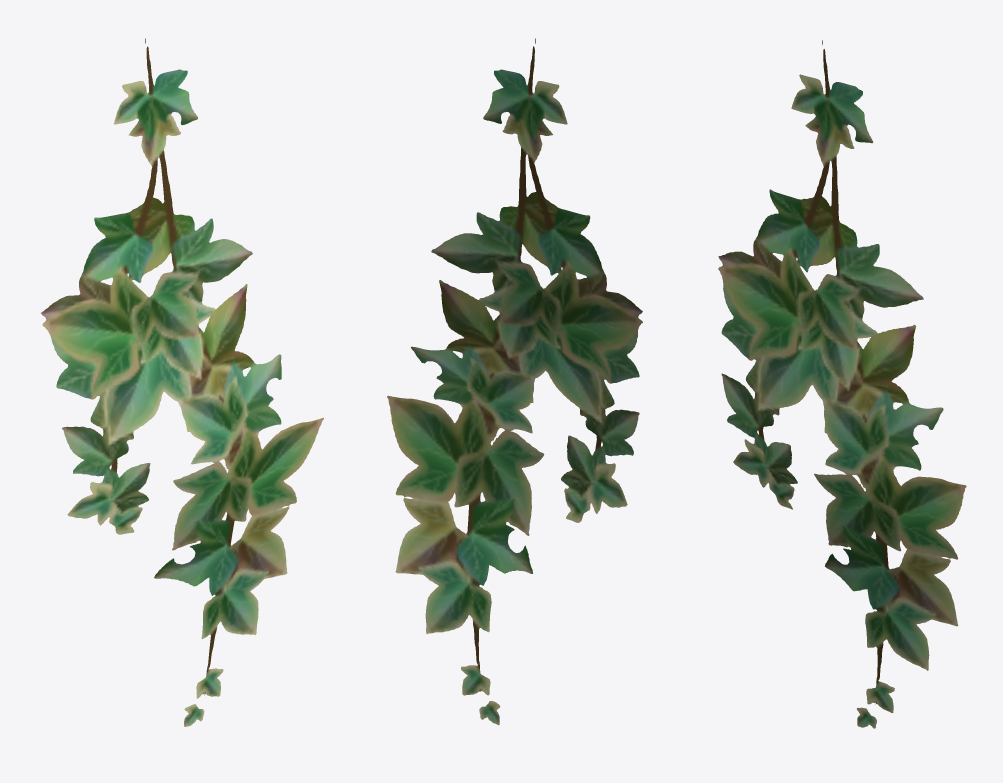
File: lierres_gr_1.fbx
3 views of the same model, side by side, from view 1: azimuth 30°, elevation 25°; view 2: azimuth 150°, elevation 25°; view 3: azimuth 330°, elevation 25° (orthographic). The views are drawn at different scales.
Parts seen in each view (by area): view 1: Lierres; view 2: Lierres; view 3: Lierres.
Boxes of the visible parts, x1,y1,x2,y2 form: Lierres: (40, 38, 323, 726); Lierres: (387, 38, 642, 725); Lierres: (718, 40, 966, 728).
Bounding box in the file's own units: 45.47 × 109 × 6.
